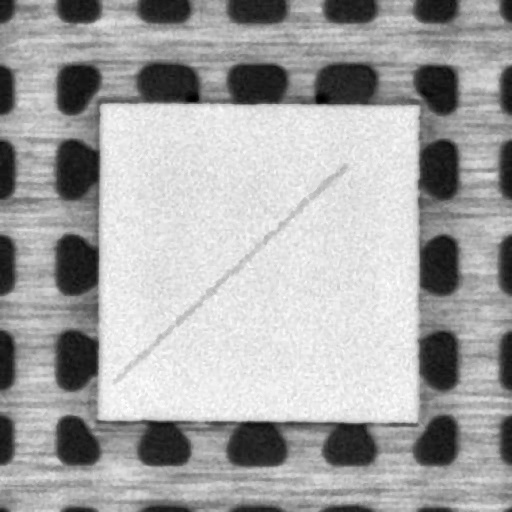DIE_CRACK: (111, 164, 344, 383)
